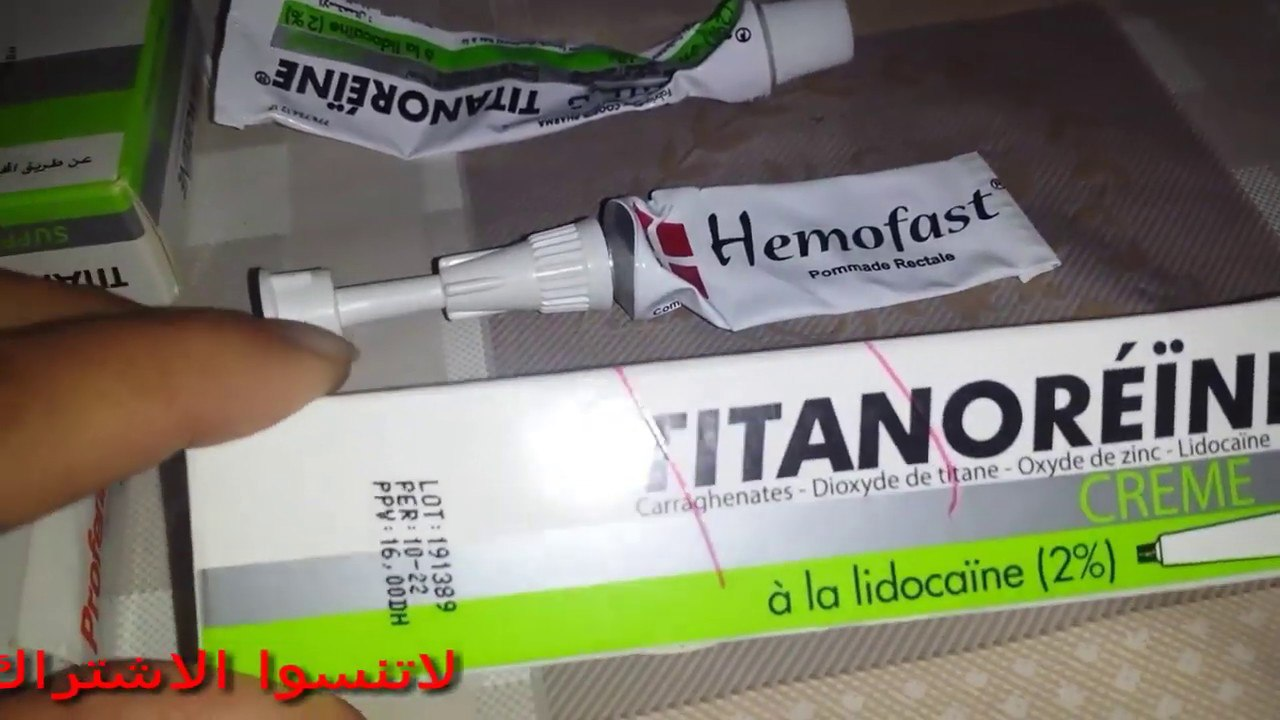Medicine: (168, 296, 1280, 700), (246, 136, 1086, 324), (194, 0, 894, 160)
